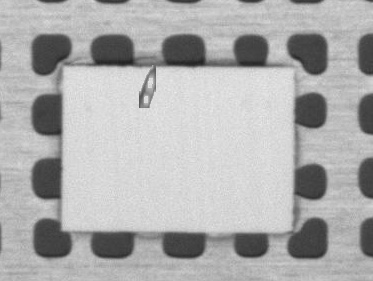DIE_INK: (185, 49, 207, 81)
